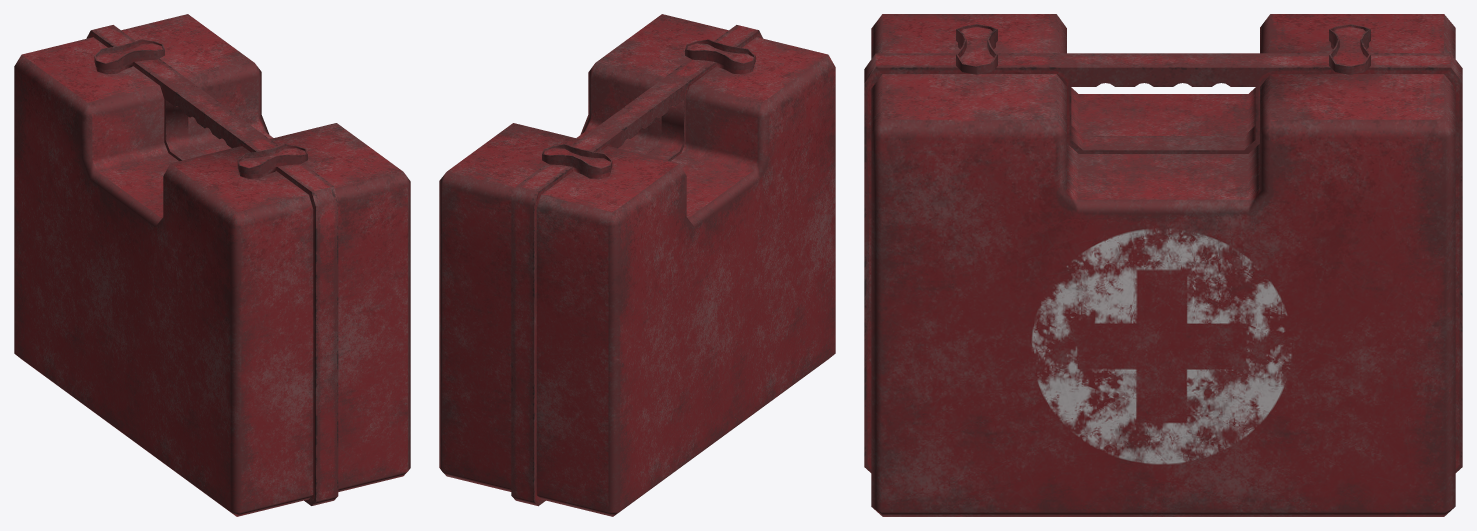
Rendered from dirty_medkit.glb.
The picture shows the model from 3 angles, left to right: view 1: azimuth 30°, elevation 25°; view 2: azimuth 150°, elevation 25°; view 3: azimuth 270°, elevation 25°; orthographic projection. The views are drawn at different scales.
Parts seen in each view (by area): view 1: lp.001; view 2: lp.001; view 3: lp.001.
Boxes of the visible parts, bbox=[...] form: lp.001: bbox=[14, 14, 410, 516]; lp.001: bbox=[439, 14, 835, 516]; lp.001: bbox=[864, 14, 1462, 516].
Bounding box in the file's own units: 0.13 × 0.224 × 0.2867.
Materials: 1 (1 with a texture image).
